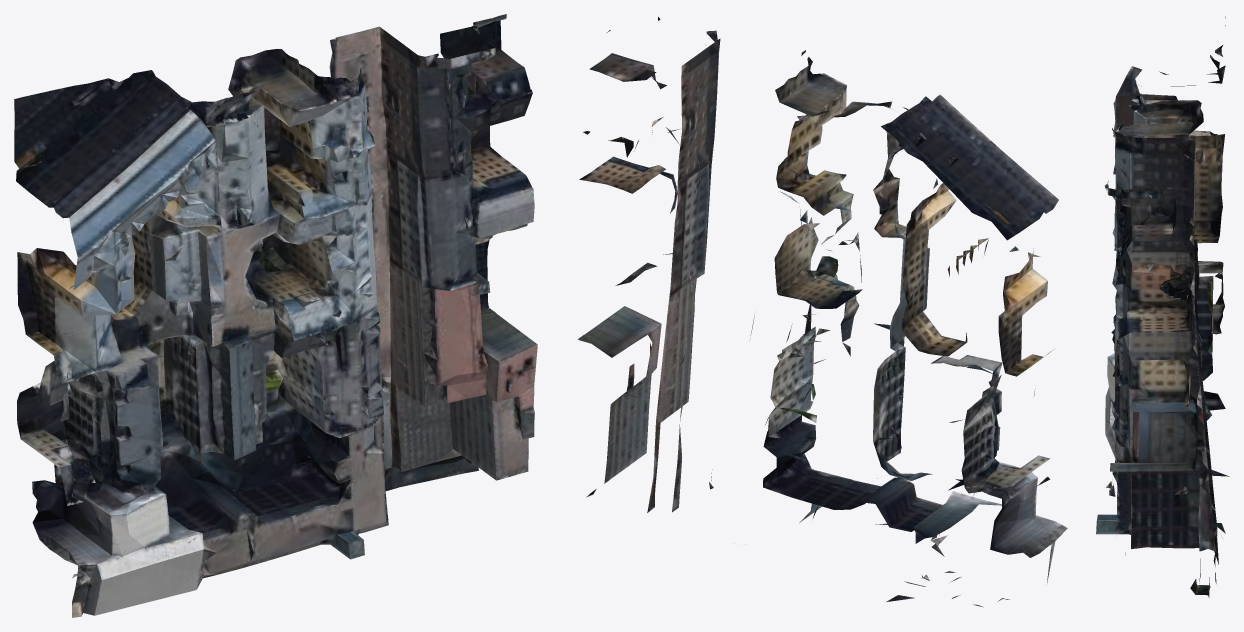
File: Tile_+035_+021_L17_0000.glb
The picture shows the model from 3 angles, left to right: view 1: azimuth 30°, elevation 25°; view 2: azimuth 150°, elevation 25°; view 3: azimuth 270°, elevation 25°; orthographic projection. The views are drawn at different scales.
Bounding box in the file's own units: 126 × 126 × 37.12.
Materials: 1 (1 with a texture image).
